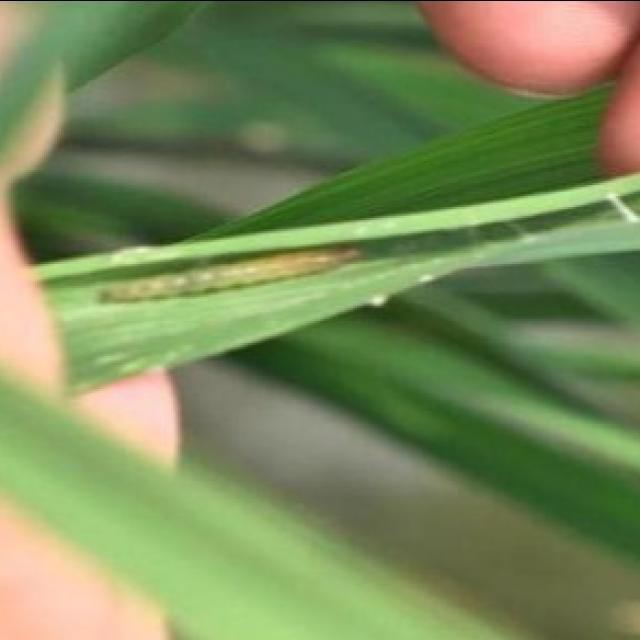rice leaf roller: (103, 248, 359, 300)
